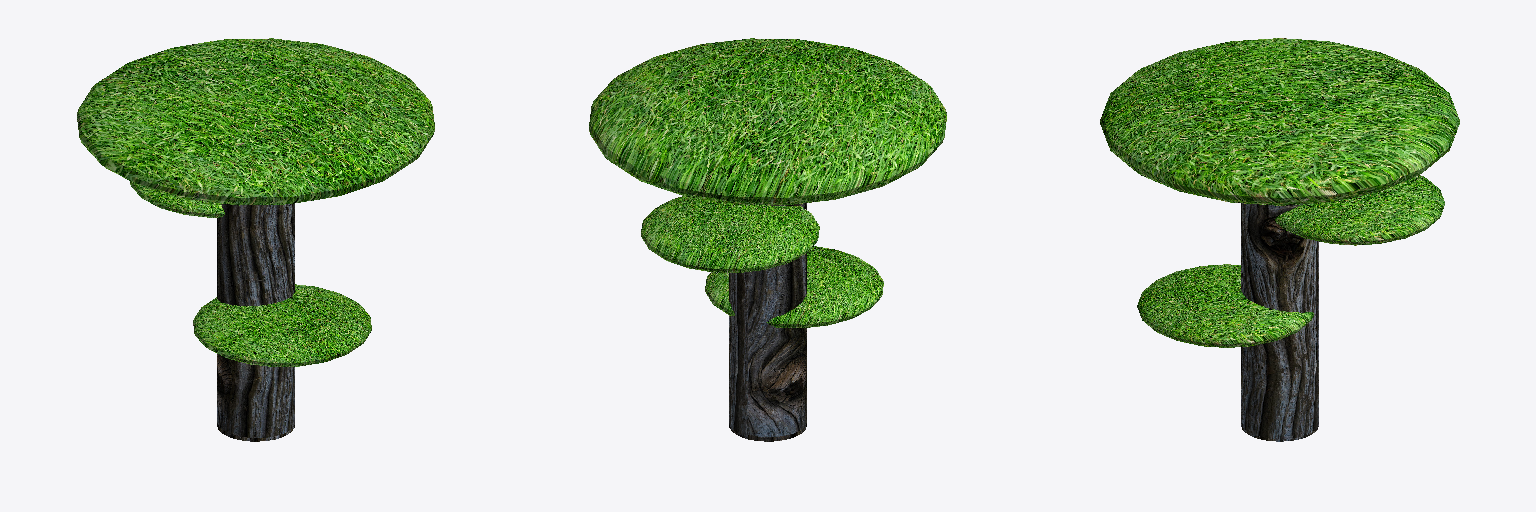
The picture shows the model from 3 angles: view 1: azimuth 30°, elevation 25°; view 2: azimuth 150°, elevation 25°; view 3: azimuth 270°, elevation 25°; orthographic projection.
Visible parts, largest first — view 1: pSphere1, pCylinder1, pasted__pSphere1 group5, pasted__pSphere1 group4; view 2: pSphere1, pCylinder1, pasted__pSphere1 group4, pasted__pSphere1 group5; view 3: pSphere1, pCylinder1, pasted__pSphere1 group5, pasted__pSphere1 group4.
Part boxes in pixels (left/top/right/bottom): pSphere1: left=77, top=38, right=434, bottom=205; pCylinder1: left=217, top=204, right=294, bottom=441; pasted__pSphere1 group5: left=193, top=284, right=371, bottom=366; pasted__pSphere1 group4: left=130, top=181, right=224, bottom=217; pSphere1: left=589, top=38, right=946, bottom=205; pCylinder1: left=729, top=203, right=806, bottom=441; pasted__pSphere1 group4: left=641, top=196, right=819, bottom=272; pasted__pSphere1 group5: left=705, top=246, right=883, bottom=327; pSphere1: left=1100, top=38, right=1459, bottom=205; pCylinder1: left=1241, top=203, right=1318, bottom=441; pasted__pSphere1 group5: left=1137, top=264, right=1313, bottom=347; pasted__pSphere1 group4: left=1275, top=175, right=1444, bottom=245.
Size of the model in its own units: 15.67 by 16.21 by 15.67.
Materials: 4 (2 with a texture image).